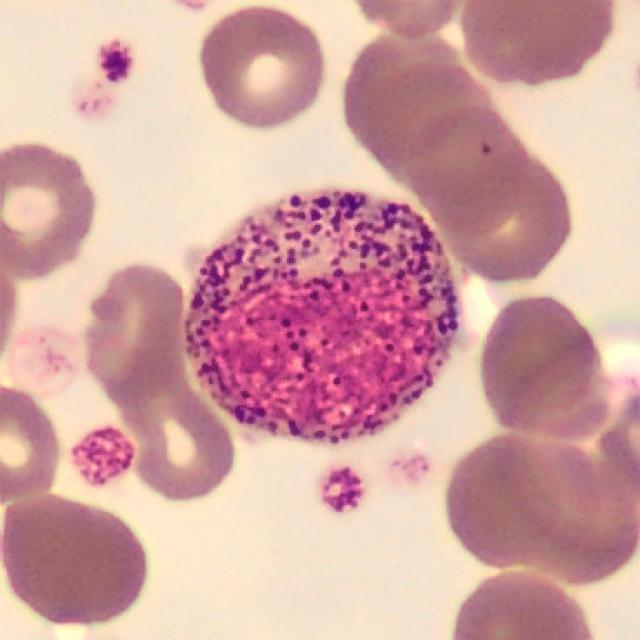Promielocito: (184, 190, 463, 445)
